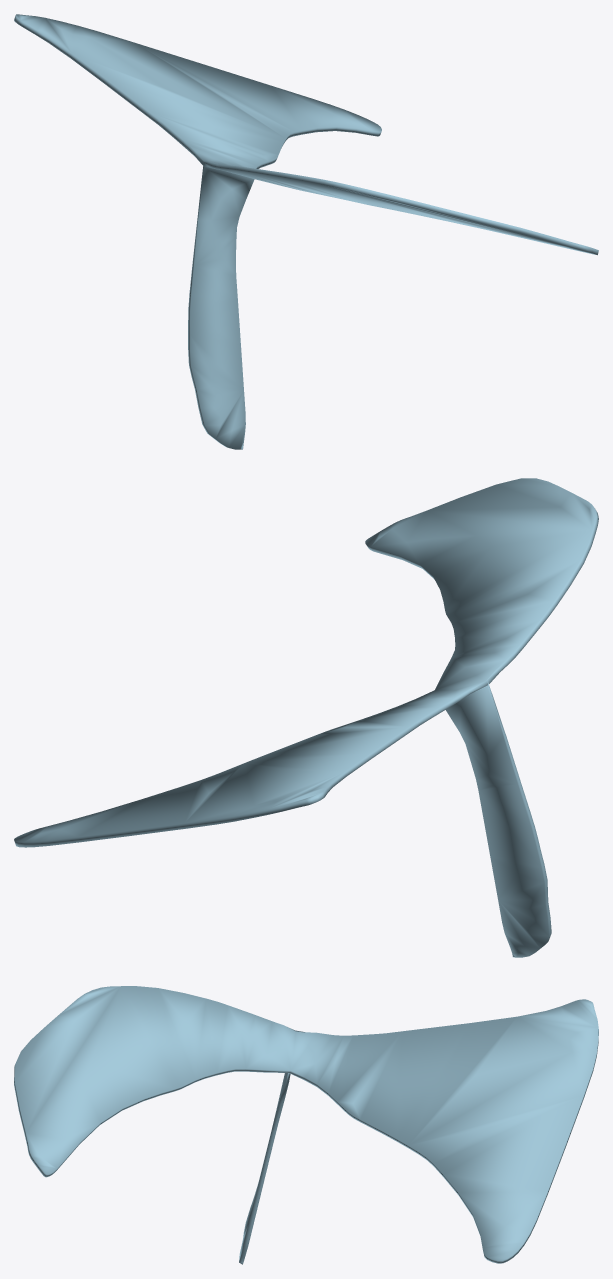
Rendered from articulacoes-triradiate-cartilage-l.glb.
The picture shows the model from 3 angles, top to bottom: view 1: azimuth 30°, elevation 25°; view 2: azimuth 150°, elevation 25°; view 3: azimuth 270°, elevation 25°; orthographic projection. The views are drawn at different scales.
Parts seen in each view (by area): view 1: Triradiate cartilage.l; view 2: Triradiate cartilage.l; view 3: Triradiate cartilage.l.
Boxes of the visible parts, box(x1,y1,x2,y2) form: Triradiate cartilage.l: box(14, 14, 598, 449); Triradiate cartilage.l: box(14, 478, 598, 957); Triradiate cartilage.l: box(14, 986, 598, 1264).
Bounding box in the file's own units: 0.0378 × 0.036 × 0.0678.
